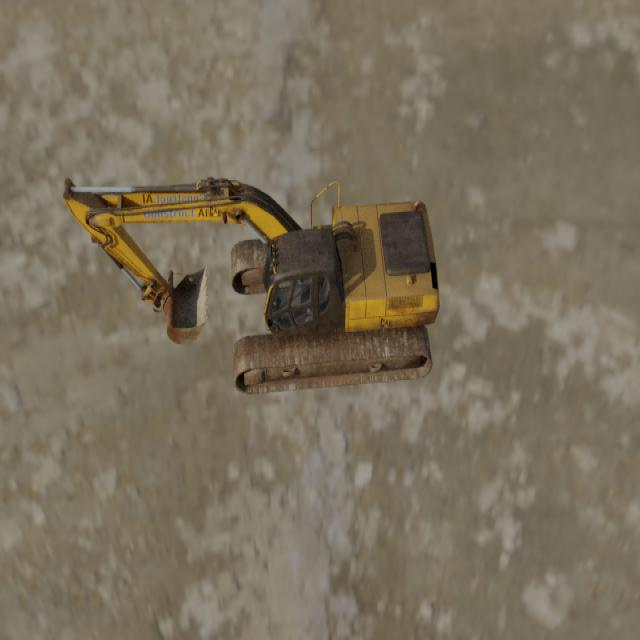excavator: (62, 176, 440, 395)
